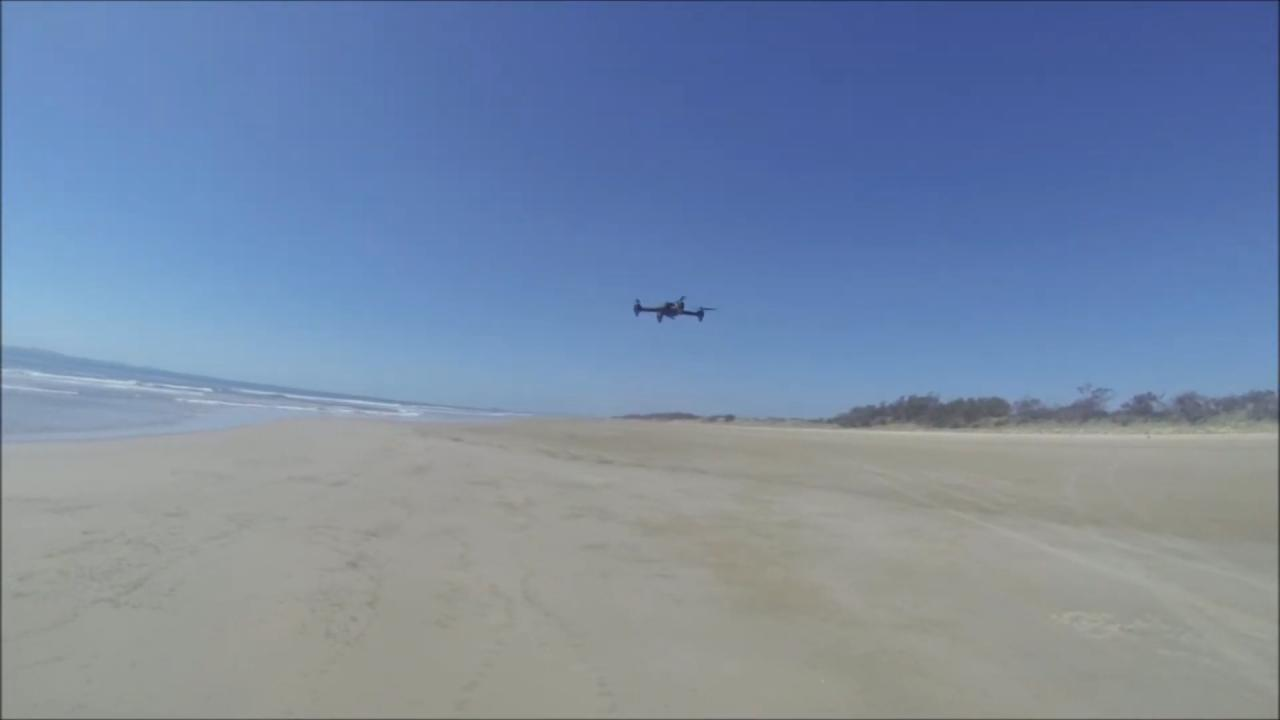Drone: (625, 283, 723, 336)
